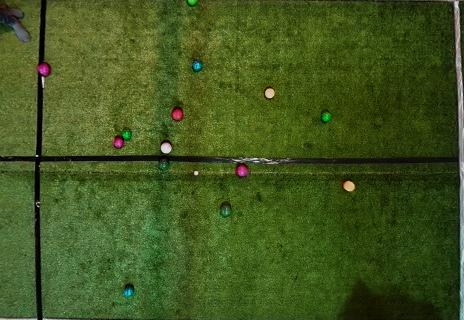blue: (124, 284, 134, 297), (192, 60, 203, 71)
green: (220, 203, 232, 216), (321, 111, 332, 123), (159, 158, 170, 169), (122, 129, 132, 140), (186, 0, 198, 7)
red: (38, 62, 51, 77), (171, 108, 184, 121), (236, 164, 248, 177), (160, 141, 172, 154), (113, 137, 124, 149)
vline: (1, 77, 45, 319), (450, 0, 463, 320), (1, 0, 47, 64)
white: (194, 170, 199, 176)
yellow: (342, 180, 355, 192), (264, 87, 275, 99)
